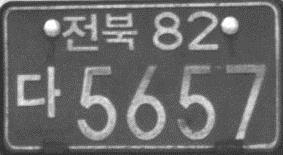2: (185, 8, 219, 52)
5: (75, 65, 119, 143), (175, 63, 216, 142)
6: (125, 64, 167, 139)
7: (222, 61, 267, 143)
8: (152, 11, 183, 52)
다: (16, 62, 61, 120)
전북_O: (60, 11, 139, 53)
